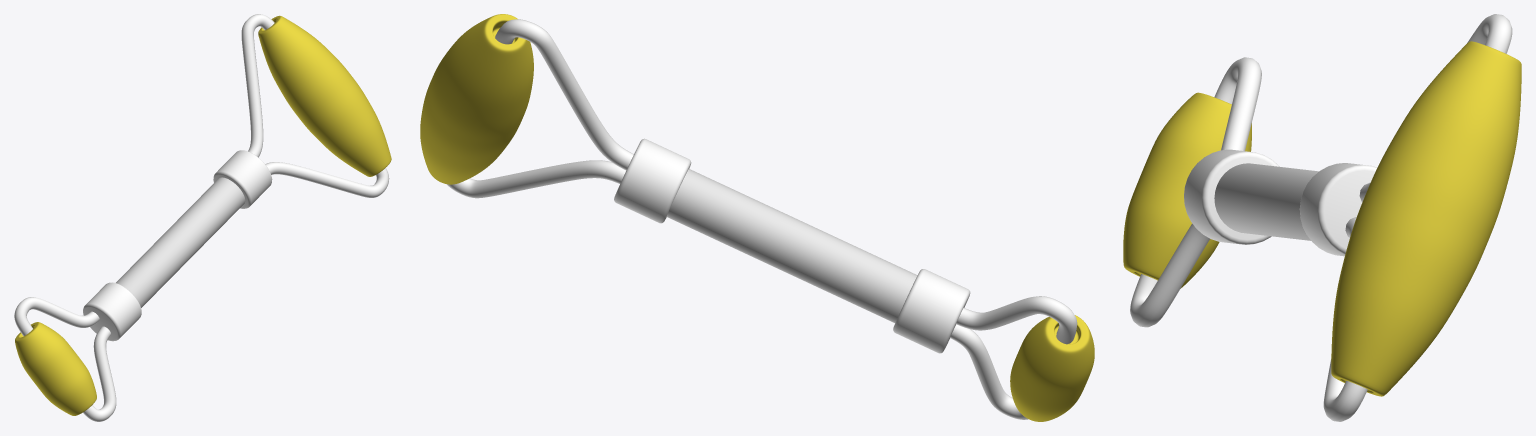
The model's file is jade-roller-3d-animated-icon-1267581481750.glb.
The picture shows the model from 3 angles, left to right: view 1: azimuth 30°, elevation 25°; view 2: azimuth 150°, elevation 25°; view 3: azimuth 270°, elevation 25°; orthographic projection. The views are drawn at different scales.
Parts seen in each view (by area): view 1: Cylinder.026, Cylinder.027, Cylinder.030, NurbsPath, NurbsPath.001, Cylinder.029, Cylinder.028; view 2: Cylinder.027, Cylinder.026, NurbsPath, Cylinder.030, NurbsPath.001, Cylinder.029, Cylinder.028; view 3: Cylinder.026, Cylinder.030, NurbsPath.001, Cylinder.027, Cylinder.028, Cylinder.029, NurbsPath.
Part boxes in pixels (left/top/right/bottom): Cylinder.026: left=258, top=15, right=391, bottom=176; Cylinder.027: left=116, top=177, right=245, bottom=307; Cylinder.030: left=15, top=322, right=96, bottom=415; NurbsPath: left=241, top=14, right=389, bottom=197; NurbsPath.001: left=14, top=297, right=116, bottom=421; Cylinder.029: left=83, top=282, right=141, bottom=341; Cylinder.028: left=213, top=150, right=272, bottom=208; Cylinder.027: left=666, top=169, right=917, bottom=322; Cylinder.026: left=420, top=14, right=533, bottom=184; NurbsPath: left=446, top=19, right=633, bottom=198; Cylinder.030: left=1010, top=315, right=1094, bottom=421; NurbsPath.001: left=950, top=296, right=1077, bottom=419; Cylinder.029: left=893, top=269, right=970, bottom=353; Cylinder.028: left=614, top=138, right=691, bottom=223; Cylinder.026: left=1331, top=41, right=1521, bottom=396; Cylinder.030: left=1123, top=92, right=1251, bottom=288; NurbsPath.001: left=1130, top=57, right=1261, bottom=327; Cylinder.027: left=1214, top=163, right=1318, bottom=240; Cylinder.028: left=1299, top=163, right=1376, bottom=256; Cylinder.029: left=1184, top=149, right=1279, bottom=244; NurbsPath: left=1323, top=14, right=1512, bottom=421.
Bounding box in the file's own units: 4.88 × 3.16 × 2.11.
